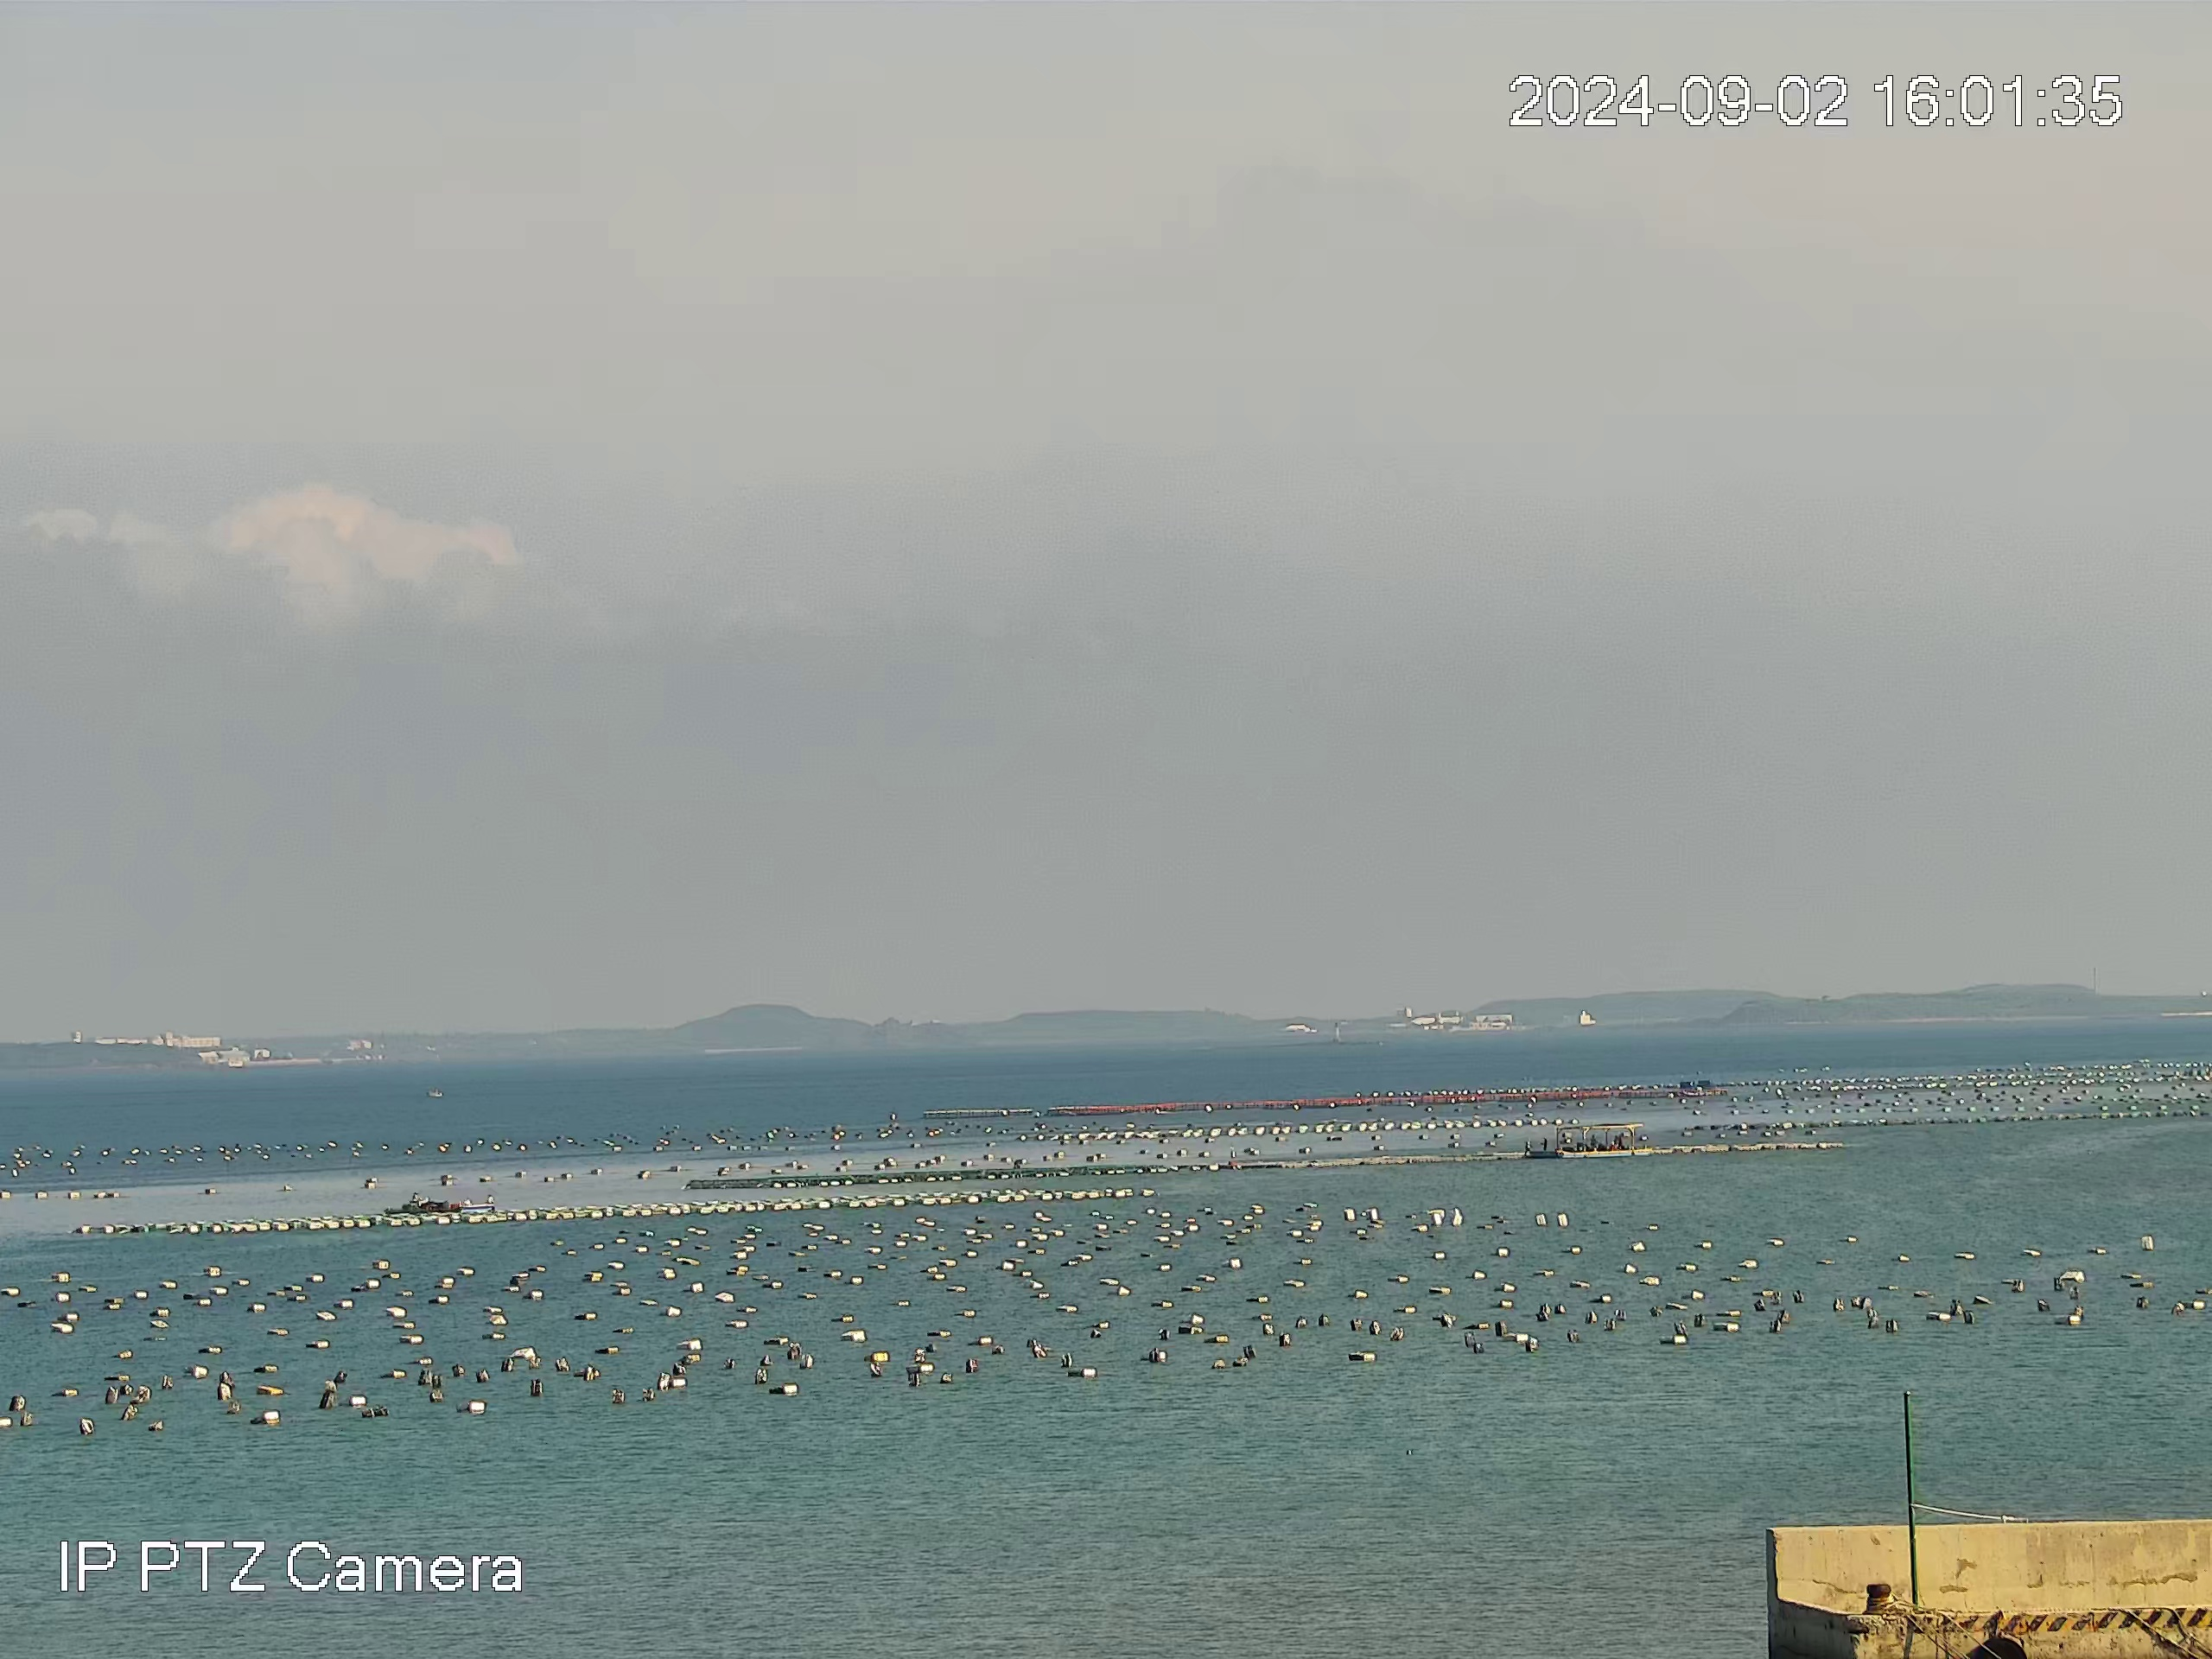boat: (1554, 1121, 1654, 1160), (383, 1192, 498, 1216), (426, 1087, 444, 1098)
